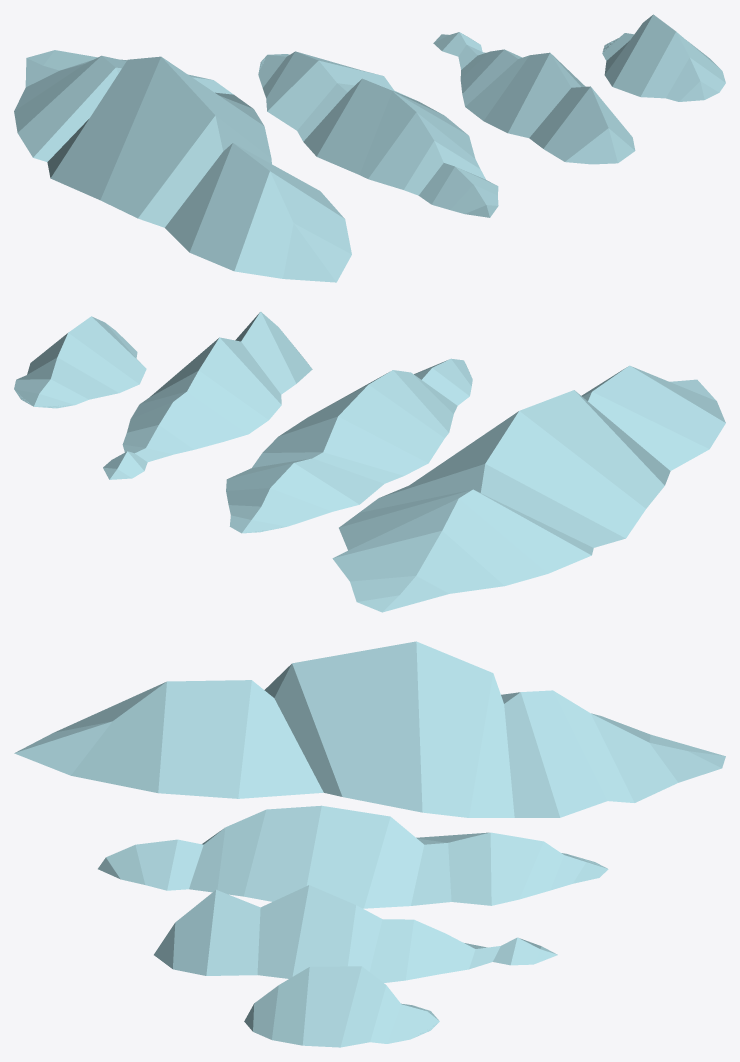
The model's file is Clowd.fbx.
3 views of the same model, one above another, from view 1: azimuth 30°, elevation 25°; view 2: azimuth 150°, elevation 25°; view 3: azimuth 270°, elevation 25° (orthographic). The views are drawn at different scales.
Parts seen in each view (by area): view 1: Plane, Plane.002, Plane.003, Plane.001; view 2: Plane, Plane.002, Plane.003, Plane.001; view 3: Plane, Plane.002, Plane.003, Plane.001.
Boxes of the visible parts, box(x1,y1,x2,y2) form: Plane: box(14, 50, 351, 282); Plane.002: box(258, 51, 498, 217); Plane.003: box(433, 32, 635, 164); Plane.001: box(602, 14, 725, 101); Plane: box(332, 365, 725, 612); Plane.002: box(226, 358, 472, 533); Plane.003: box(103, 311, 312, 479); Plane.001: box(14, 316, 146, 408); Plane: box(14, 641, 725, 817); Plane.002: box(98, 805, 608, 908); Plane.003: box(154, 885, 557, 982); Plane.001: box(244, 966, 439, 1047).
Size of the model in its own units: 1213 by 198 by 1047.
